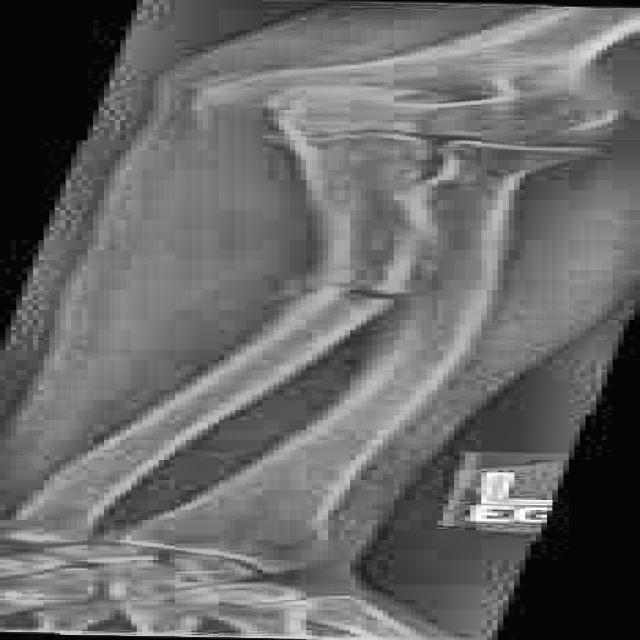forearm fracture: (174, 243, 497, 345)
